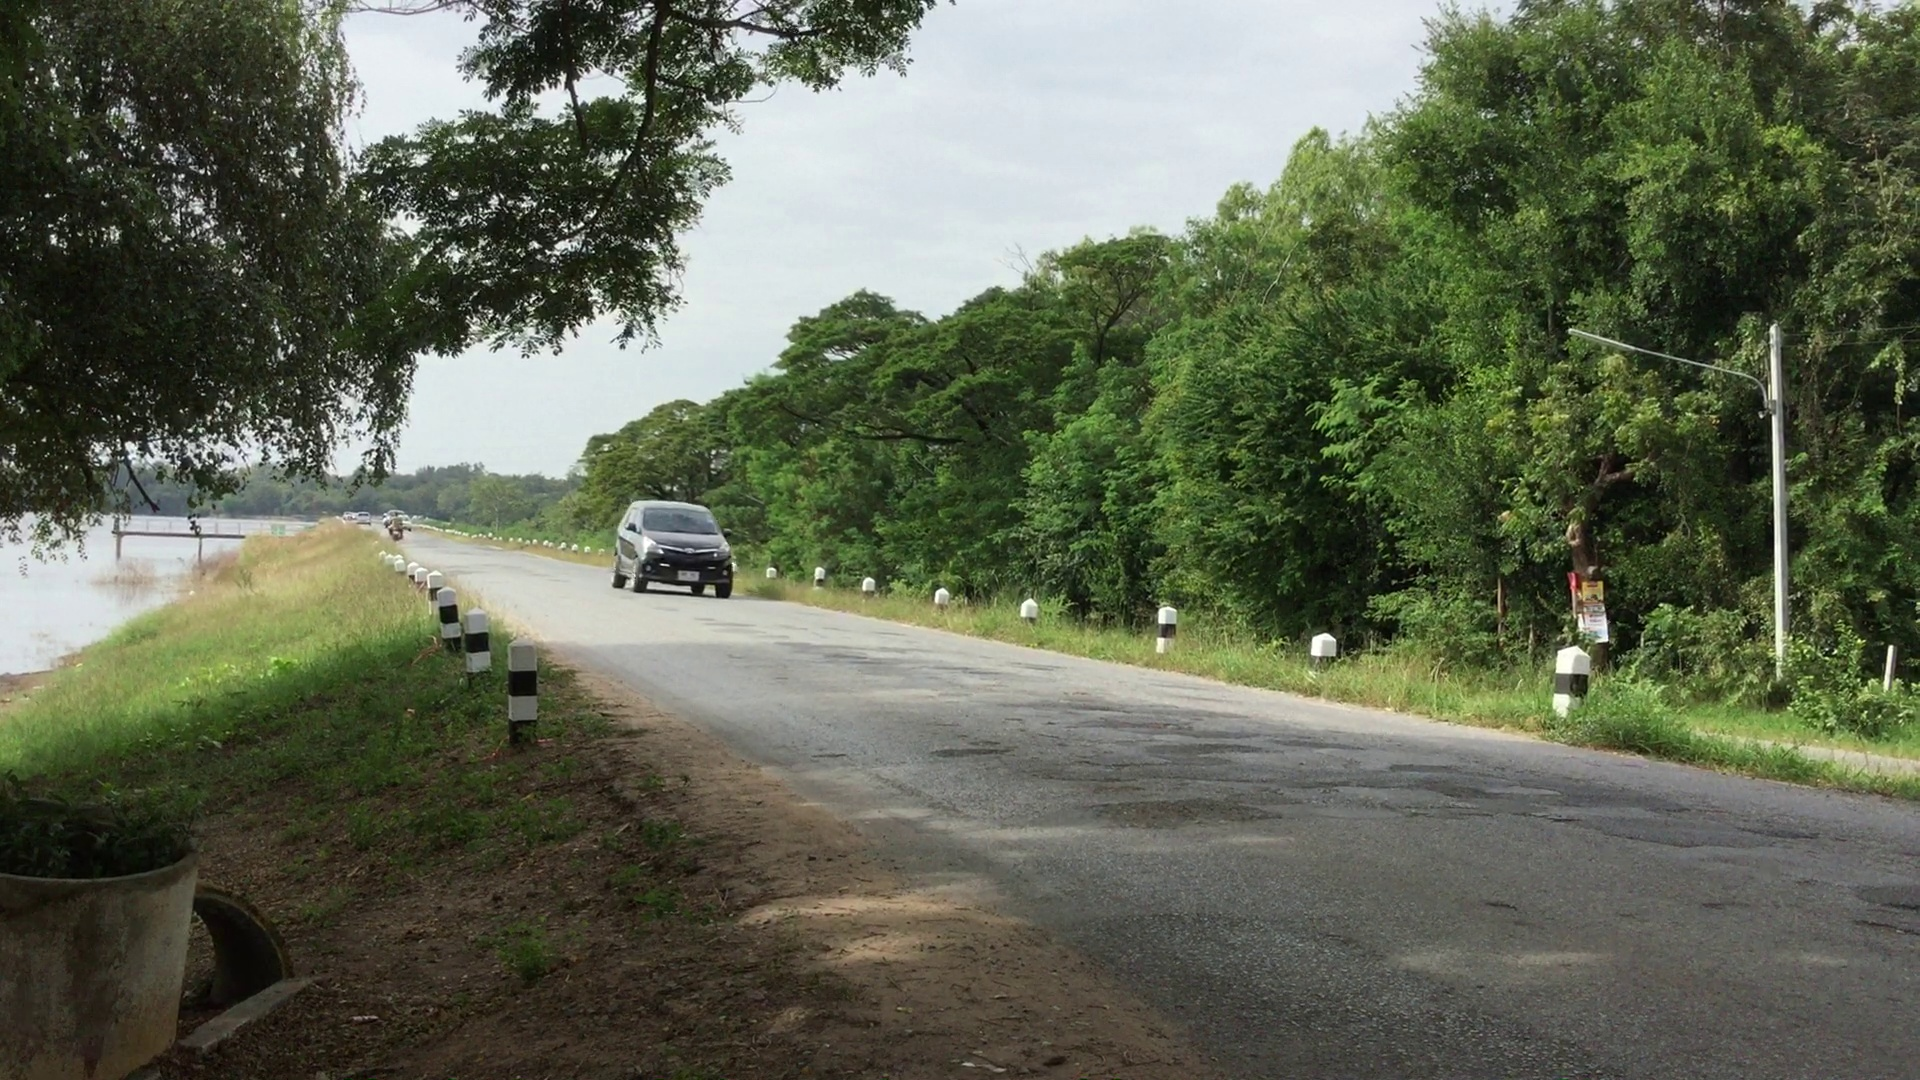car: (615, 497, 735, 600)
person: (388, 509, 405, 539)
post: (503, 639, 540, 745), (1546, 642, 1592, 719), (457, 603, 495, 680), (431, 583, 461, 655), (1310, 627, 1337, 683), (1155, 603, 1180, 653), (809, 564, 830, 593), (857, 573, 877, 597), (1020, 595, 1038, 621)
